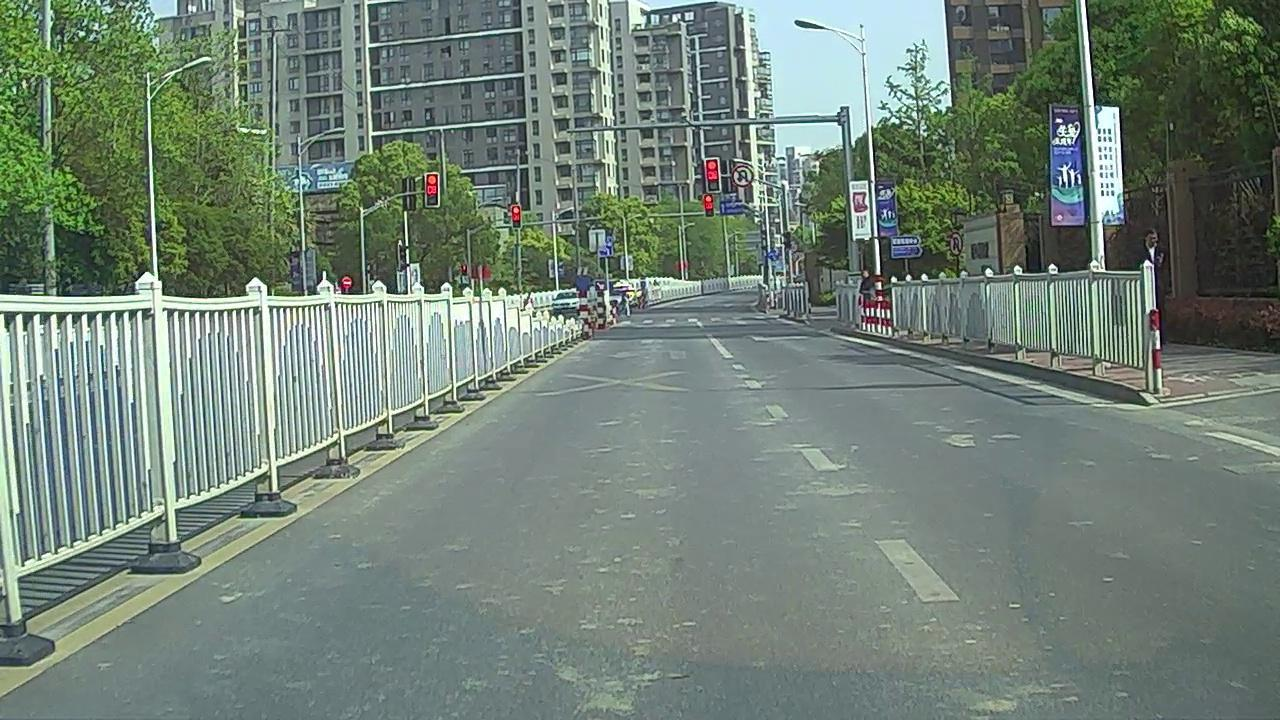traffic_light: (705, 160, 720, 192), (427, 174, 439, 208), (702, 193, 712, 219), (514, 206, 523, 231)
